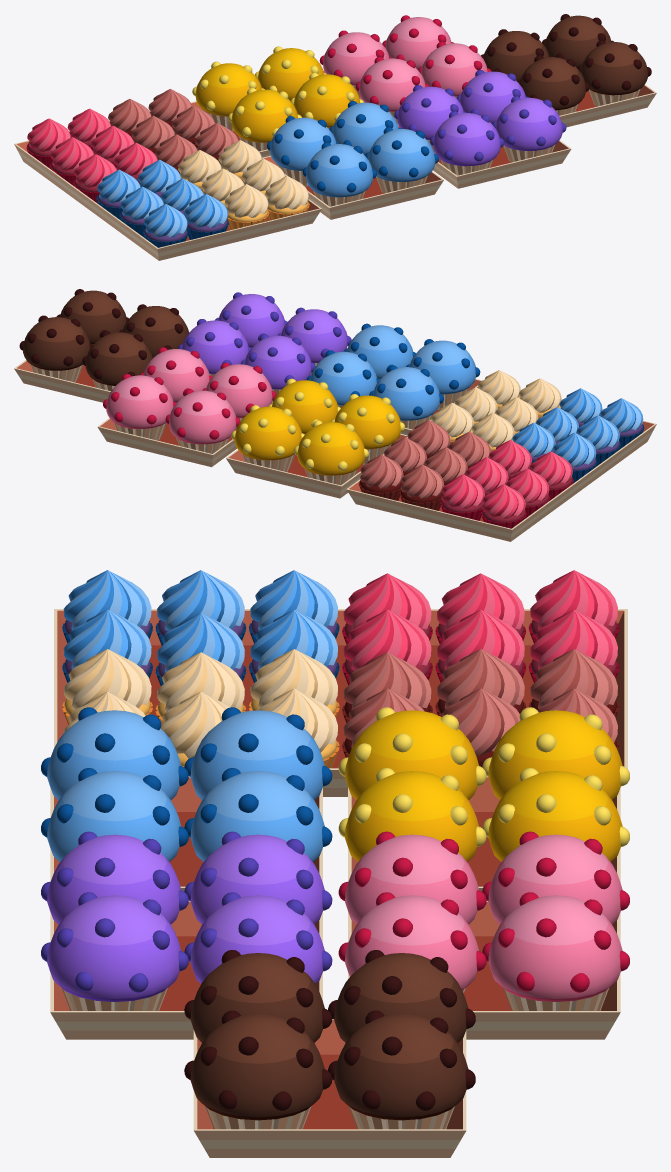
The model's file is maya2sketchfab.fbx.
3 renders of one model, top to bottom at view 1: azimuth 30°, elevation 25°; view 2: azimuth 150°, elevation 25°; view 3: azimuth 270°, elevation 25°, orthographic. The views are drawn at different scales.
Visible parts, largest first — view 1: Muffin_4 (×5), Muffin_1 (×5), Muffin_2 (×5), Muffin_3 (×5), Dessert_Tray (×4), Cupcake_4 (×4), Cupcake_3 (×4), Cupcake_1 (×4), Cupcake_2 (×4), Cupcake_6 (×4), Cupcake_5 (×4); view 2: Muffin_3 (×5), Muffin_2 (×5), Muffin_1 (×5), Muffin_4 (×5), Dessert_Tray (×4), Cupcake_1 (×4), Cupcake_6 (×4), Cupcake_4 (×4), Cupcake_2 (×4), Cupcake_3 (×4), Cupcake_5 (×4); view 3: Muffin_4 (×5), Muffin_3 (×5), Muffin_1 (×5), Muffin_2 (×5), Dessert_Tray (×6), Cupcake_1 (×4), Cupcake_2 (×4), Cupcake_4 (×4), Cupcake_5 (×4), Cupcake_6 (×4), Cupcake_3 (×4).
Boxes of the visible parts, bbox=[...] form: Muffin_4 (×5): bbox=[290, 40, 651, 193]; Muffin_1 (×5): bbox=[228, 55, 589, 206]; Muffin_2 (×5): bbox=[192, 29, 551, 186]; Muffin_3 (×5): bbox=[255, 14, 613, 155]; Dessert_Tray (×4): bbox=[14, 84, 656, 260]; Cupcake_4 (×4): bbox=[73, 134, 269, 247]; Cupcake_3 (×4): bbox=[114, 123, 309, 239]; Cupcake_1 (×4): bbox=[26, 99, 221, 220]; Cupcake_2 (×4): bbox=[50, 115, 244, 237]; Cupcake_6 (×4): bbox=[67, 89, 262, 197]; Cupcake_5 (×4): bbox=[91, 106, 285, 217]; Muffin_3 (×5): bbox=[19, 315, 379, 471]; Muffin_2 (×5): bbox=[82, 330, 443, 485]; Muffin_1 (×5): bbox=[119, 304, 480, 464]; Muffin_4 (×5): bbox=[56, 289, 415, 434]; Dessert_Tray (×4): bbox=[14, 360, 656, 541]; Cupcake_1 (×4): bbox=[399, 413, 597, 528]; Cupcake_6 (×4): bbox=[359, 403, 555, 520]; Cupcake_4 (×4): bbox=[448, 378, 644, 500]; Cupcake_2 (×4): bbox=[424, 397, 620, 518]; Cupcake_3 (×4): bbox=[407, 370, 602, 480]; Cupcake_5 (×4): bbox=[384, 387, 578, 495]; Muffin_4 (×5): bbox=[41, 768, 486, 1129]; Muffin_3 (×5): bbox=[184, 768, 629, 1129]; Muffin_1 (×5): bbox=[41, 707, 486, 1042]; Muffin_2 (×5): bbox=[184, 707, 629, 1042]; Dessert_Tray (×6): bbox=[50, 609, 627, 1157]; Cupcake_1 (×4): bbox=[249, 570, 619, 717]; Cupcake_2 (×4): bbox=[155, 570, 525, 725]; Cupcake_4 (×4): bbox=[62, 570, 432, 724]; Cupcake_5 (×4): bbox=[155, 609, 526, 767]; Cupcake_6 (×4): bbox=[249, 609, 619, 768]; Cupcake_3 (×4): bbox=[62, 609, 432, 757].
Size of the model in its own units: 173 by 18.14 by 82.1.
10 materials, 10 textured.
